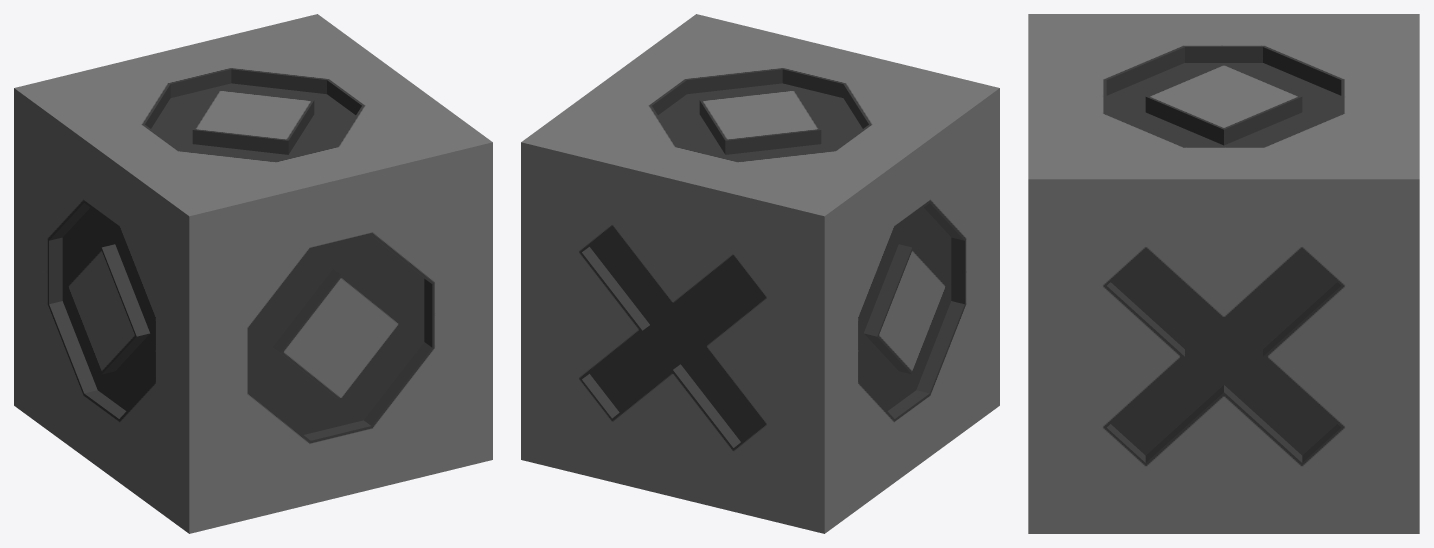
The model's file is 3Dtictactoe_dice.glb.
3 views of the same model, side by side, from view 1: azimuth 30°, elevation 25°; view 2: azimuth 150°, elevation 25°; view 3: azimuth 270°, elevation 25° (orthographic). The views are drawn at different scales.
Parts seen in each view (by area): view 1: DicePiece; view 2: DicePiece; view 3: DicePiece.
Boxes of the visible parts, x1,y1,x2,y2 form: DicePiece: (14,14,492,533); DicePiece: (521,14,999,533); DicePiece: (1028,14,1419,533).
Bounding box in the file's own units: 4.5 × 4.5 × 4.5.
1 material, 1 textured.
